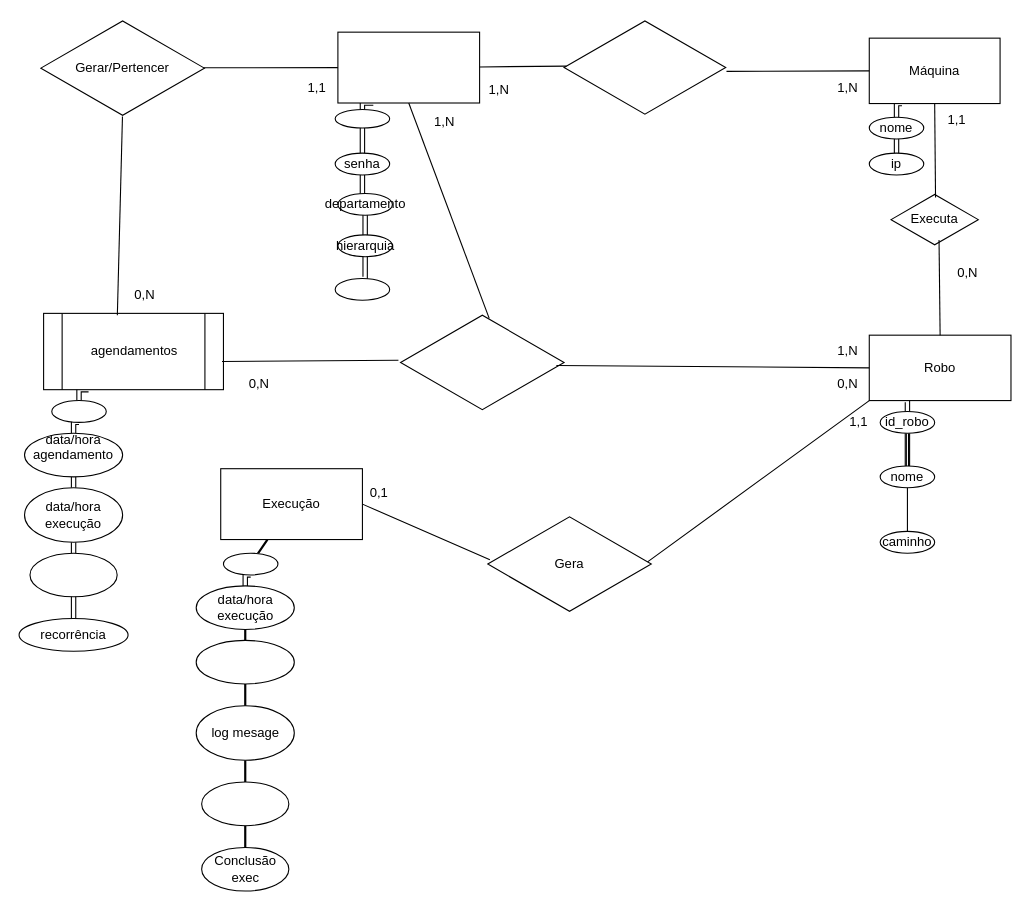
Image size: 1030x910. Some labels were removed from this diagram. Here are the shapes that lost their labels. From the top down, the centre of each, then its label:
the point at 408,67: usuário
the point at 644,67: Cadastra/Cadastrada
the point at 362,118: login
the point at 362,288: whatsapp
the point at 481,361: Pertence/Executa
the point at 78,410: id_agendamento
the point at 73,574: id robo
the point at 250,563: PWID
the point at 244,661: data/hora fim_execução
the point at 245,803: log level
